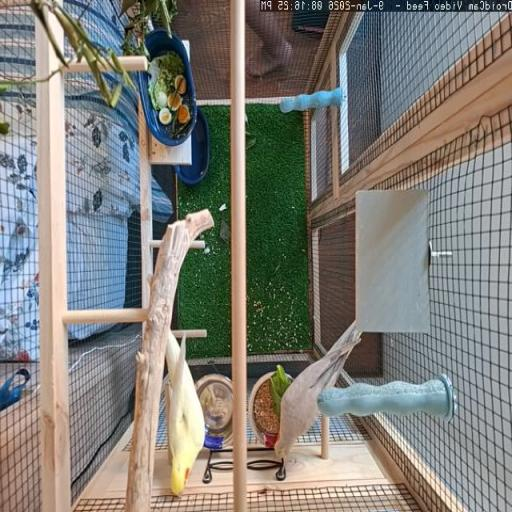bebedero: (196, 373, 233, 449)
comedero: (249, 365, 293, 446)
ninfa: (274, 322, 362, 459), (166, 333, 205, 493)
